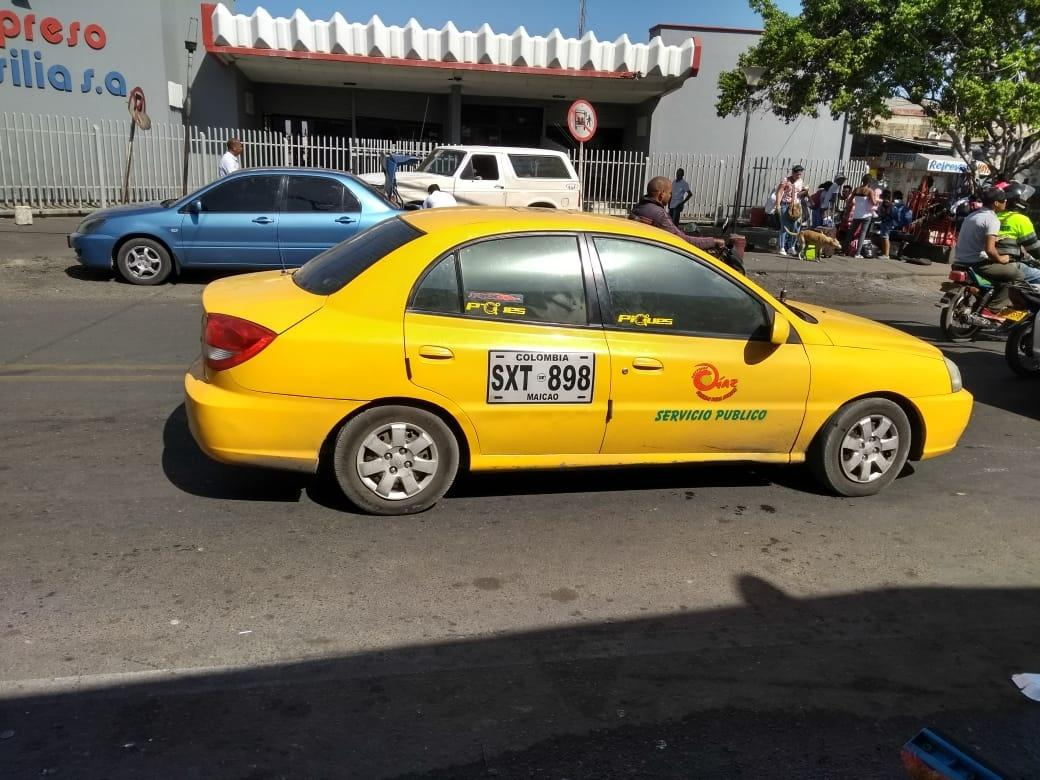taxi: (221, 191, 960, 530)
